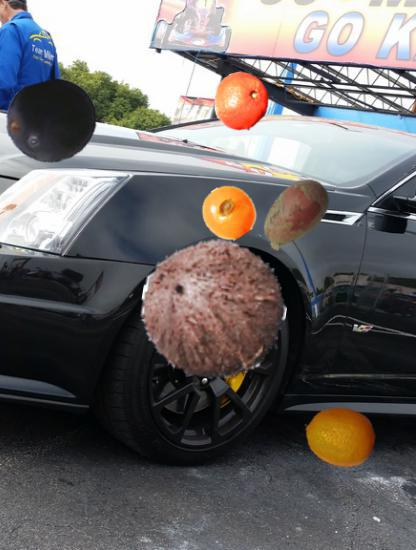Clementine: (211, 72, 272, 133)
Cocos: (141, 236, 287, 382)
Grape: (6, 76, 98, 168)
Lemon: (303, 400, 376, 473)
Physalis: (202, 185, 256, 239)
Potato: (253, 172, 336, 255)
